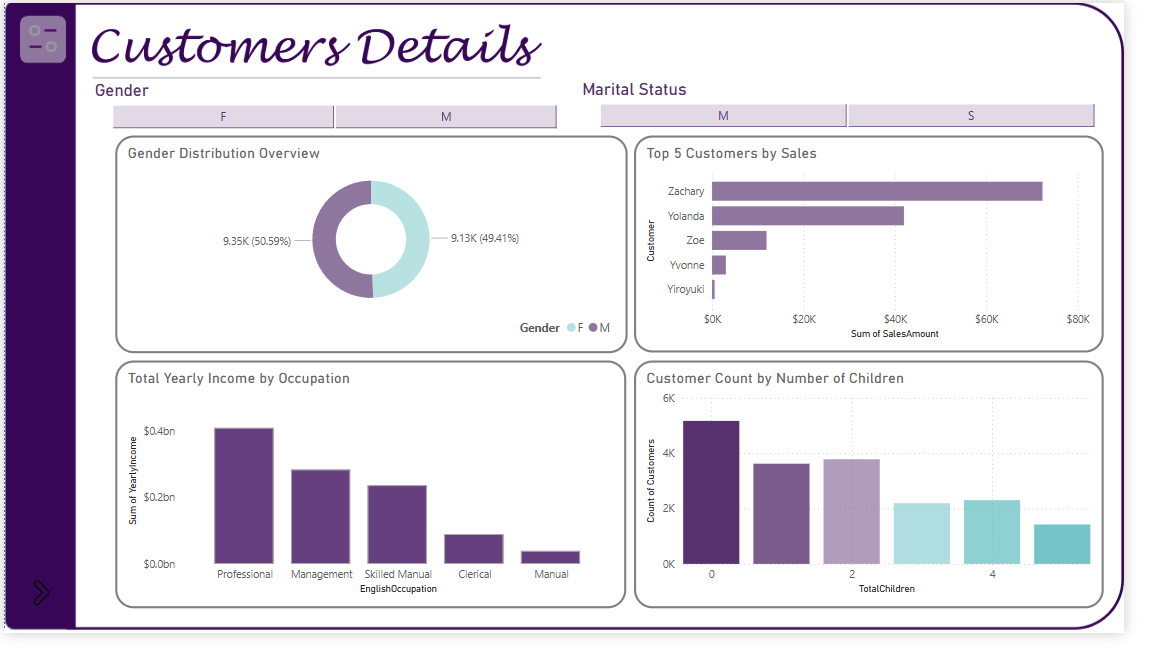

The dashboard page shown, as its layout file describes it:
{"tool":"powerbi","page":{"name":"Customer","canvas":[1280,720],"ordinal":4},"visuals":[{"type":"actionButton","box":[18.6,14.3,54.3,51.4],"z":0},{"type":"shape","box":[101.5,78.2,511.8,13.7],"z":1000},{"type":"actionButton","box":[17.8,639.5,53.5,50.8],"z":2000},{"type":"actionButton","box":[17.8,558.5,53.5,50.8],"z":3000},{"type":"image","box":[94.7,9.6,531,75.5],"z":4000},{"type":"slicer","title":"Marital Status","fields":{"Values":["DimCustomer.MaritalStatus"]},"box":[655.9,87.8,614.8,54.9],"z":5000},{"type":"slicer","title":"Gender","fields":{"Values":["DimCustomer.Gender"]},"box":[98.8,89.2,557.1,54.9],"z":6000},{"type":"clusteredColumnChart","title":"Total Yearly Income by Occupation","fields":{"Category":["DimCustomer.EnglishOccupation"],"Y":["DimCustomer.YearlyIncome"]},"box":[127.1,408.6,584.3,282.9],"z":6501,"group":"g1"},{"type":"donutChart","title":"Gender Distribution Overview","fields":{"Y":["DimCustomer.Gender"],"Series":["DimCustomer.Gender"]},"box":[127.1,151.4,585.7,248.6],"z":7000},{"type":"group","id":"g1","title":"Group 1","box":[127.1,408.6,584.3,282.9],"z":8000},{"type":"columnChart","title":"Customer Count by Number of Children","fields":{"Category":["DimCustomer.TotalChildren"],"Y":["DimCustomer.CustomerKey"]},"box":[720,408.6,537.1,282.9],"z":9000},{"type":"clusteredBarChart","title":"Top 5 Customers by Sales","fields":{"Category":["DimCustomer.FirstName"],"Y":["FactInternetSales.SalesAmount"]},"box":[720.4,150.9,536.5,248.4],"z":10000},{"type":"image","box":[18.1,10.9,51.9,57.9],"z":11000},{"type":"image","box":[1.2,651.5,80.8,44.6],"z":12000}]}

Visuals, with their boxes in screenshot pixels (x1, y1, x2, y2), scaled from the page's 1280x720 canvas onto the 1157x660 screenshot:
actionButton: [17, 13, 66, 60]
shape: [92, 72, 554, 84]
actionButton: [16, 586, 64, 633]
actionButton: [16, 512, 64, 559]
image: [86, 9, 566, 78]
"Marital Status" slicer: [593, 80, 1149, 131]
"Gender" slicer: [89, 82, 593, 132]
"Total Yearly Income by Occupation" clusteredColumnChart: [115, 375, 643, 634]
"Gender Distribution Overview" donutChart: [115, 139, 644, 367]
"Group 1" group: [115, 375, 643, 634]
"Customer Count by Number of Children" columnChart: [651, 375, 1136, 634]
"Top 5 Customers by Sales" clusteredBarChart: [651, 138, 1136, 366]
image: [16, 10, 63, 63]
image: [1, 597, 74, 638]
